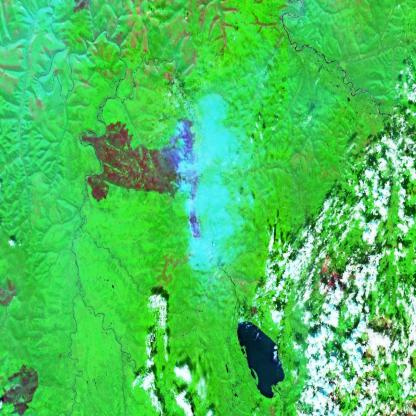fire: (157, 113, 203, 248)
